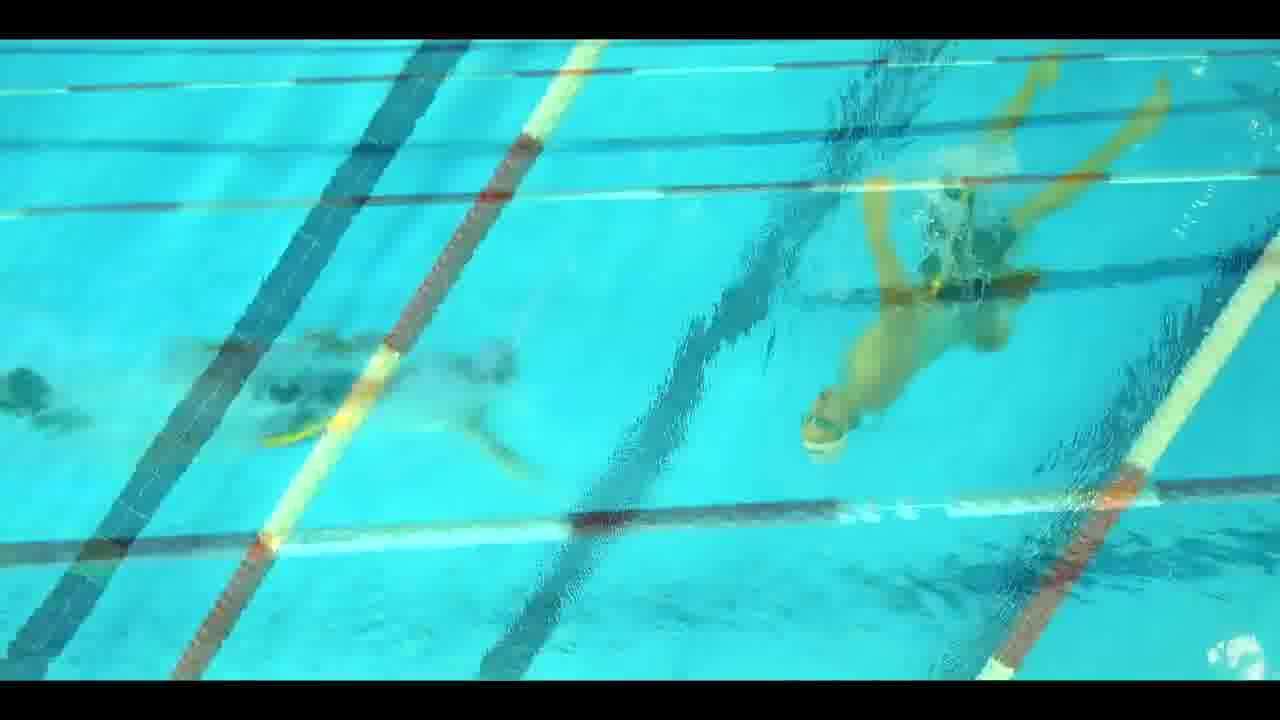human: (792, 59, 1186, 468)
